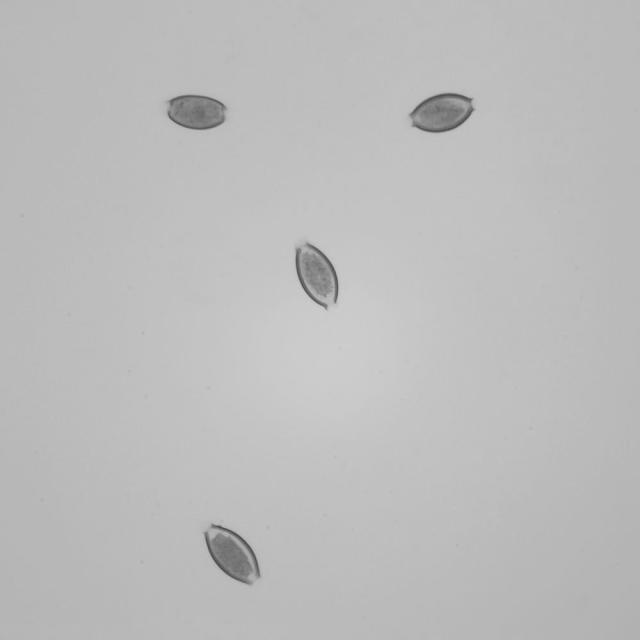Trichuris Trichiura: (193, 514, 267, 588), (285, 233, 340, 315), (398, 89, 482, 141), (158, 94, 231, 136)
